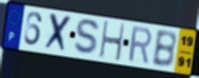6: (23, 11, 44, 48)
B: (150, 30, 178, 69)
H: (98, 20, 126, 63)
R: (127, 25, 153, 66)
S: (73, 17, 102, 57)
X: (42, 12, 73, 56)
